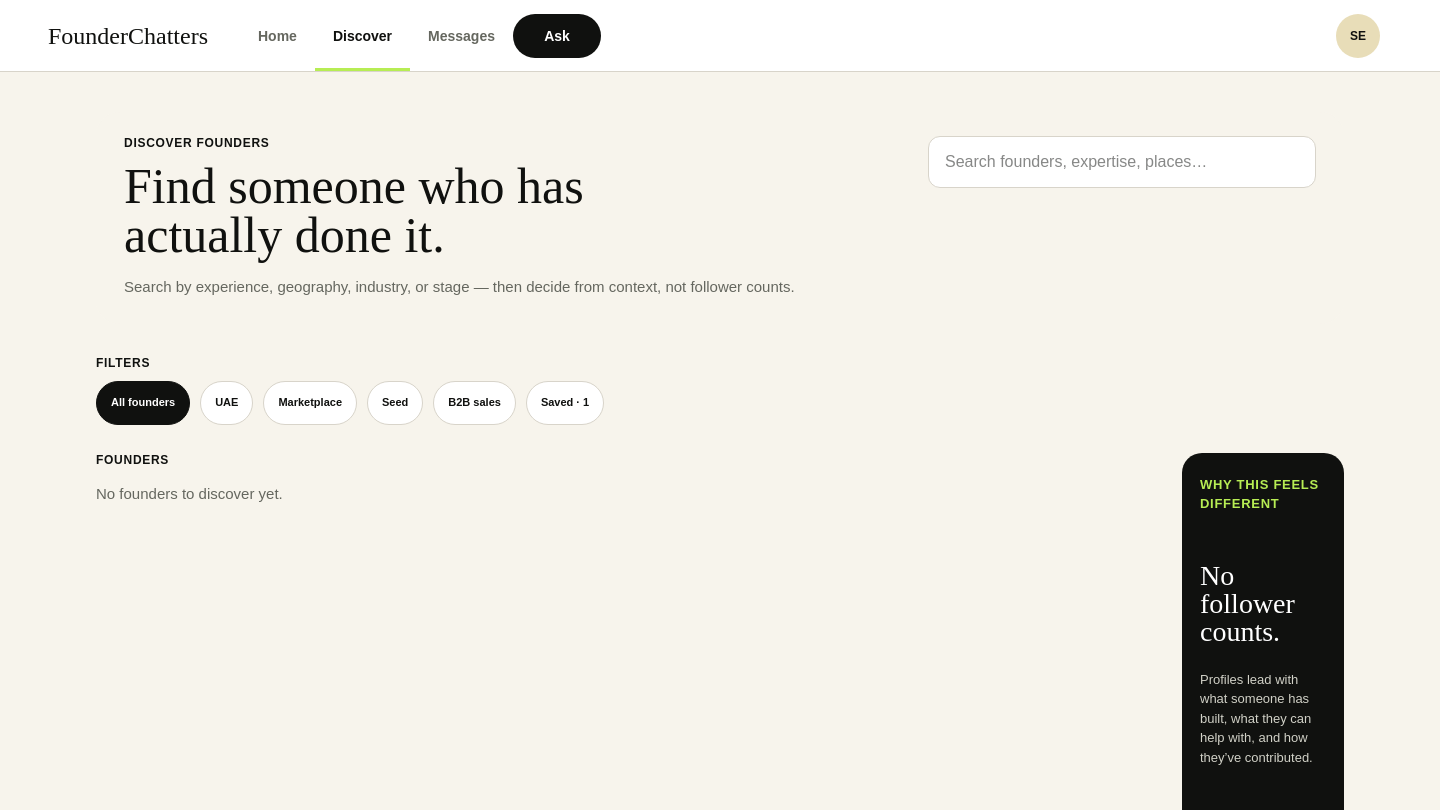
Test: FC-010 discover › shows empty and no-results states
Check: the text "No founders to discover yet." is shown, box [96,483,283,505]
Check: the heading "Find someone who has" is shown, box [124,158,584,263]
Type "zzzz" into the field labelled "Search founders" at (1122, 162), box [928,136,1316,188]
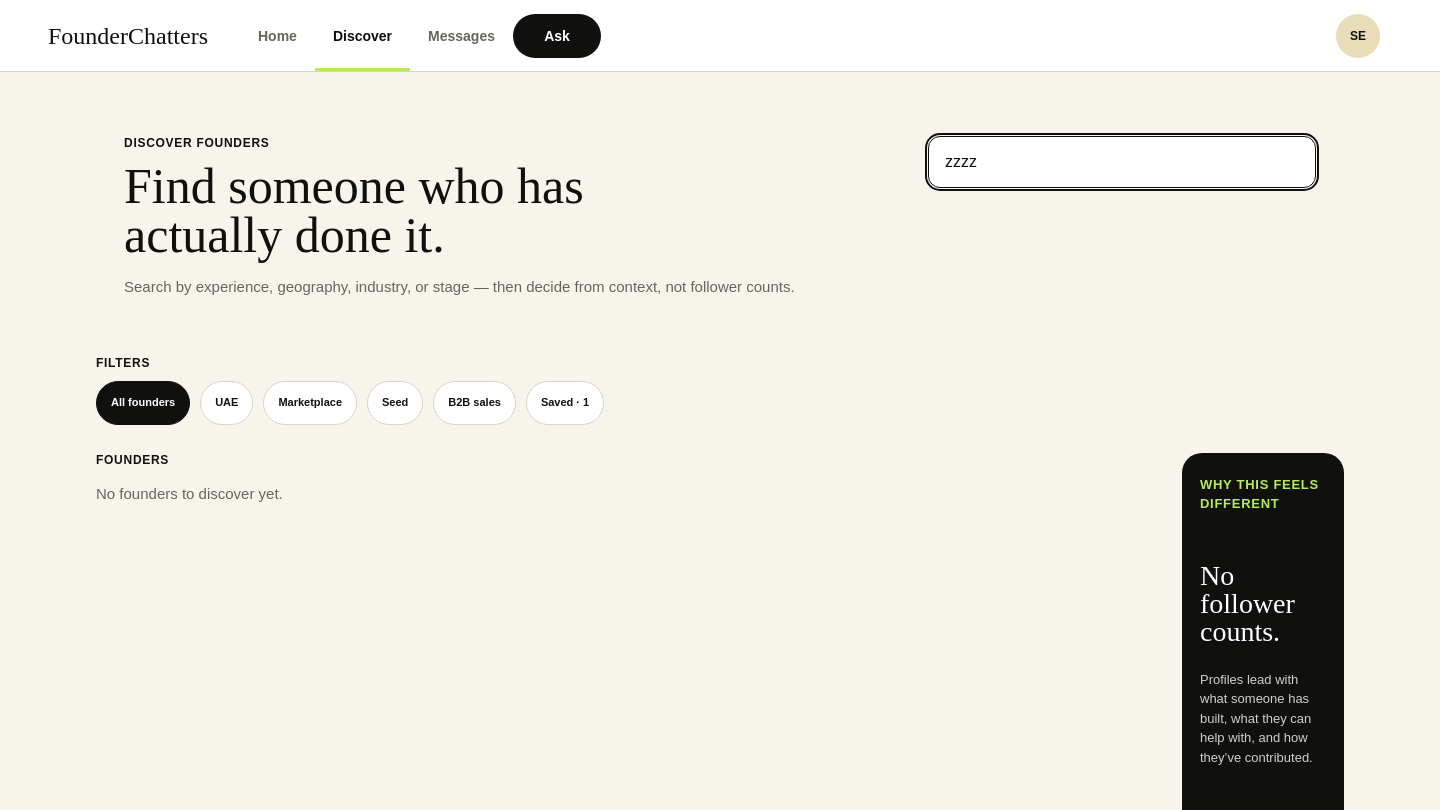
Press Enter
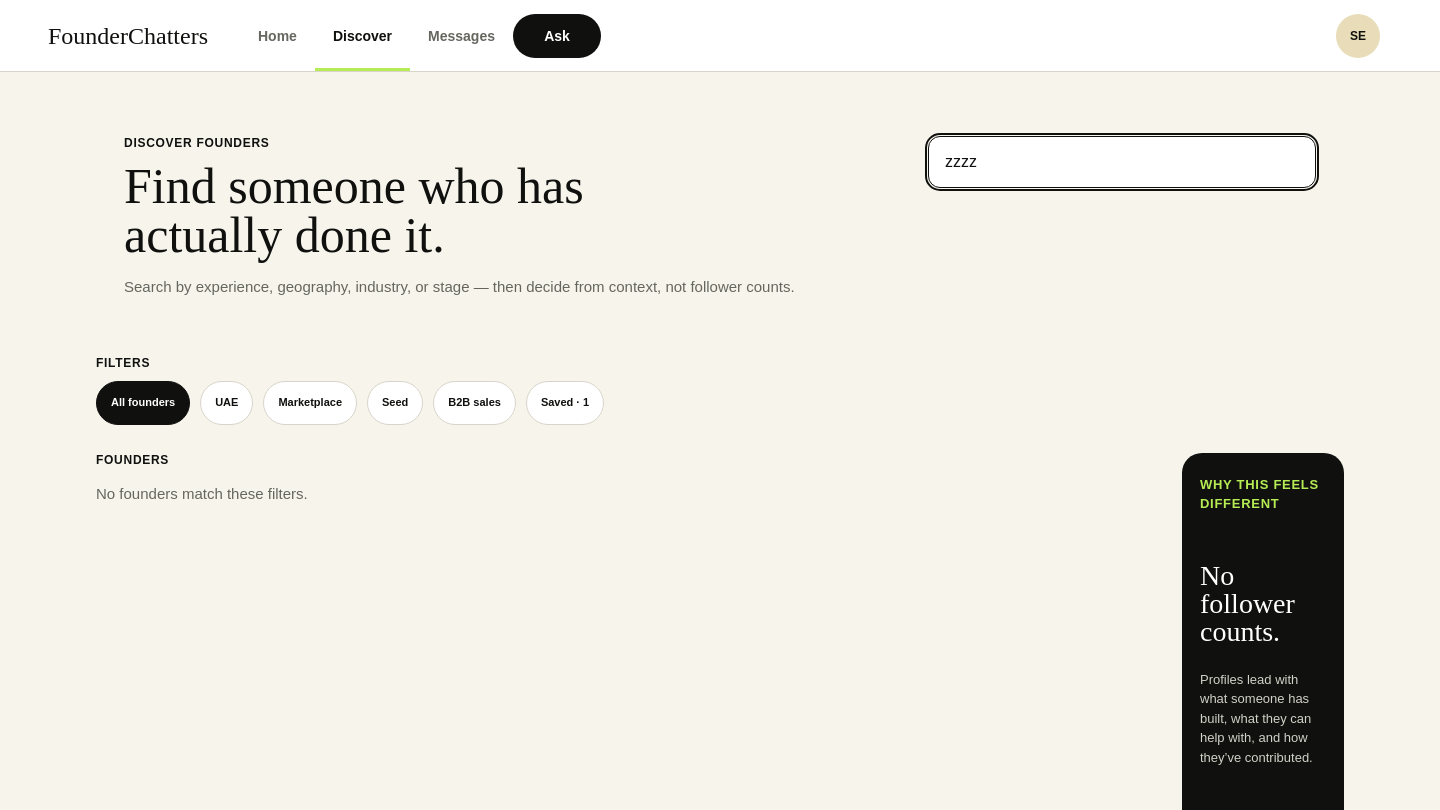
Check: the text "No founders match these filters." is shown, box [96,483,308,505]
